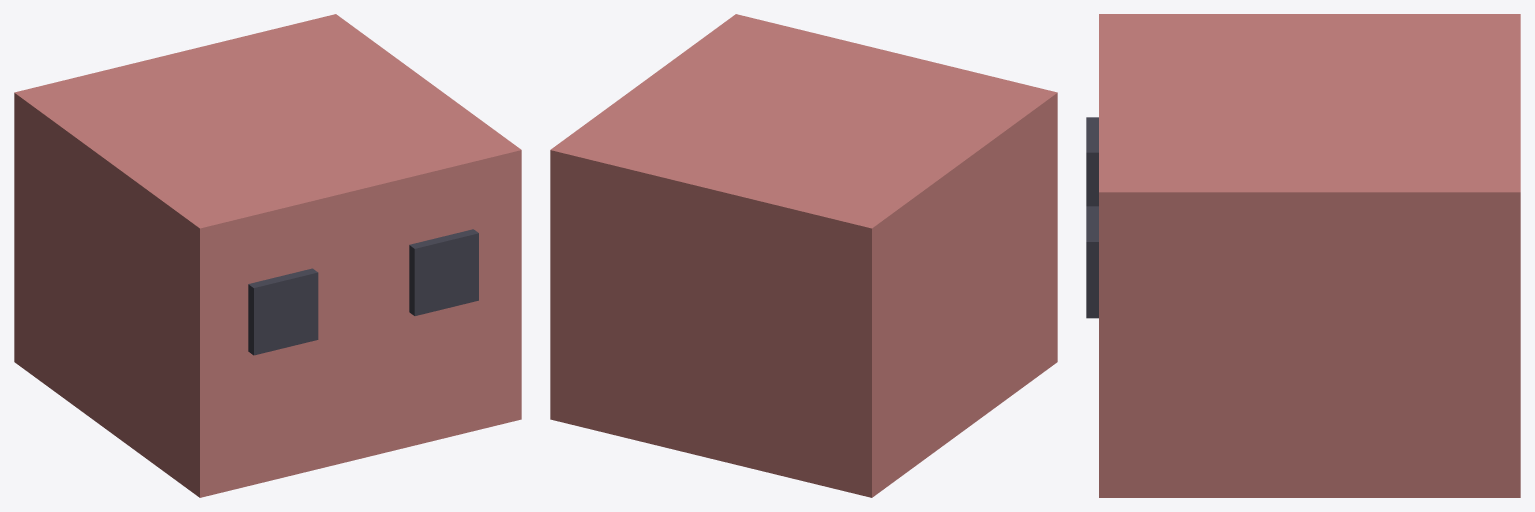
Rendered from grunt.glb.
The picture shows the model from 3 angles, left to right: view 1: azimuth 30°, elevation 25°; view 2: azimuth 150°, elevation 25°; view 3: azimuth 270°, elevation 25°; orthographic projection. The views are drawn at different scales.
Visible parts, largest first — view 1: body; view 2: body; view 3: body.
Part boxes in pixels (x1,y1,x2,y2): body: (14, 14, 521, 497); body: (550, 14, 1057, 497); body: (1086, 14, 1520, 497).
Size of the model in its own units: 0.625 by 0.5 by 0.6438.
